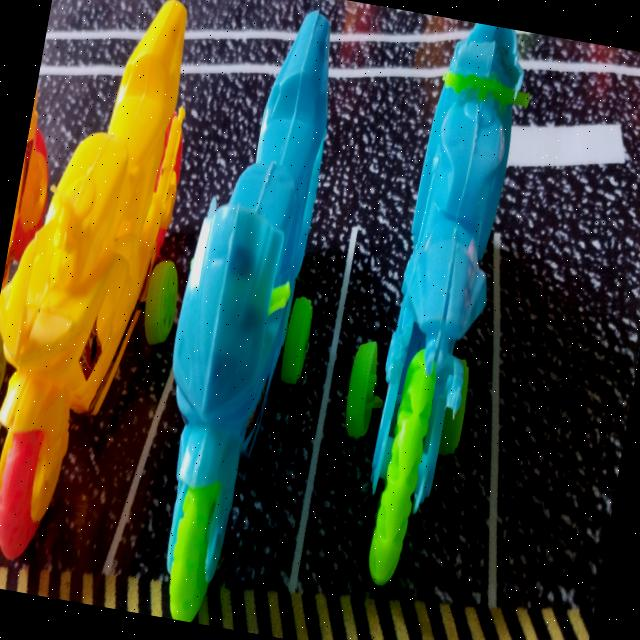occupied: (297, 23, 527, 604), (126, 10, 350, 593), (0, 0, 187, 579)
slots: (497, 231, 640, 612)
